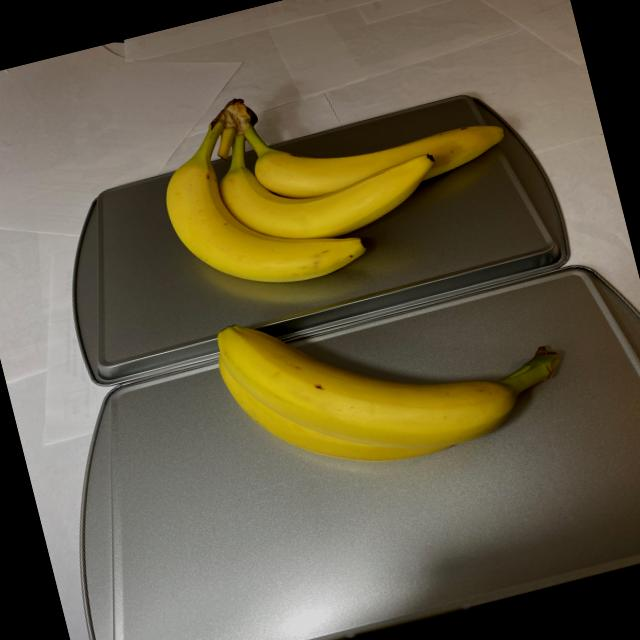banana: (138, 34, 538, 312), (197, 242, 590, 504)
